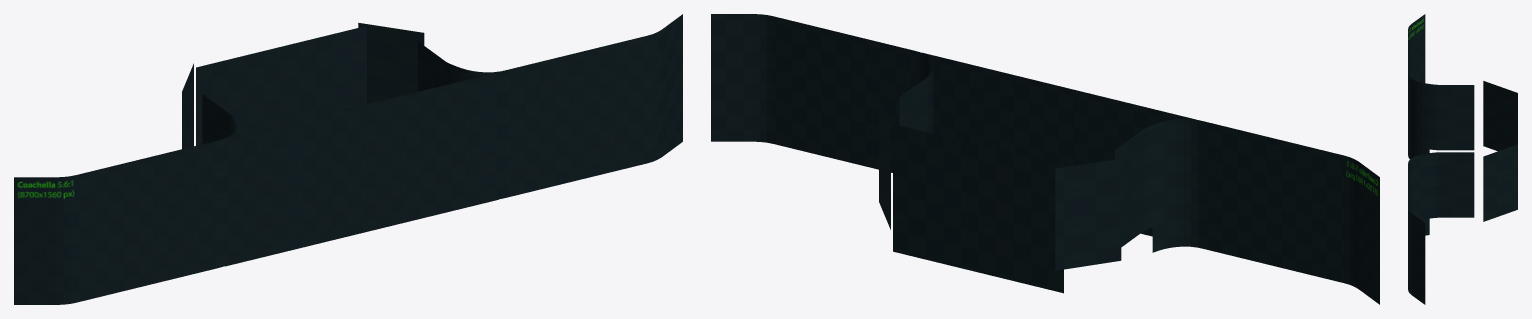
File: ANYMA_Coachella_StageDec_v009_Option2_wFront.glb
3 renders of one model, left to right at view 1: azimuth 30°, elevation 25°; view 2: azimuth 150°, elevation 25°; view 3: azimuth 270°, elevation 25°, orthographic. The views are drawn at different scales.
Visible parts, largest first — view 1: LED_FRONT_IRL.005, LED_SR_WING_IRL.010, LED_SR_WING_IRL.009, LED_US_WALL_IRL.005, LED_SR_GARAGE_IRL.009, LED_SR_GARAGE_IRL.010; view 2: LED_SR_WING_IRL.010, LED_SR_WING_IRL.009, LED_US_WALL_IRL.005, LED_FRONT_IRL.005, LED_SR_GARAGE_IRL.010, LED_SR_GARAGE_IRL.009; view 3: LED_SR_WING_IRL.009, LED_SR_WING_IRL.010, LED_SR_GARAGE_IRL.009, LED_SR_GARAGE_IRL.010.
Boxes of the visible parts, <box> form: LED_FRONT_IRL.005: <box>224,72,498,266</box>; LED_SR_WING_IRL.010: <box>14,94,236,304</box>; LED_SR_WING_IRL.009: <box>418,14,682,199</box>; LED_US_WALL_IRL.005: <box>196,26,366,145</box>; LED_SR_GARAGE_IRL.009: <box>358,22,424,103</box>; LED_SR_GARAGE_IRL.010: <box>182,63,193,148</box>; LED_SR_WING_IRL.010: <box>1115,119,1379,304</box>; LED_SR_WING_IRL.009: <box>711,14,933,172</box>; LED_US_WALL_IRL.005: <box>893,124,1063,293</box>; LED_FRONT_IRL.005: <box>922,52,1195,236</box>; LED_SR_GARAGE_IRL.010: <box>1055,158,1121,270</box>; LED_SR_GARAGE_IRL.009: <box>879,100,890,229</box>; LED_SR_WING_IRL.009: <box>1408,152,1474,304</box>; LED_SR_WING_IRL.010: <box>1408,14,1474,159</box>; LED_SR_GARAGE_IRL.009: <box>1483,144,1517,221</box>; LED_SR_GARAGE_IRL.010: <box>1483,81,1517,151</box>.
Size of the model in its own units: 65.79 by 12.01 by 14.6.
Materials: 1 (1 with a texture image).
